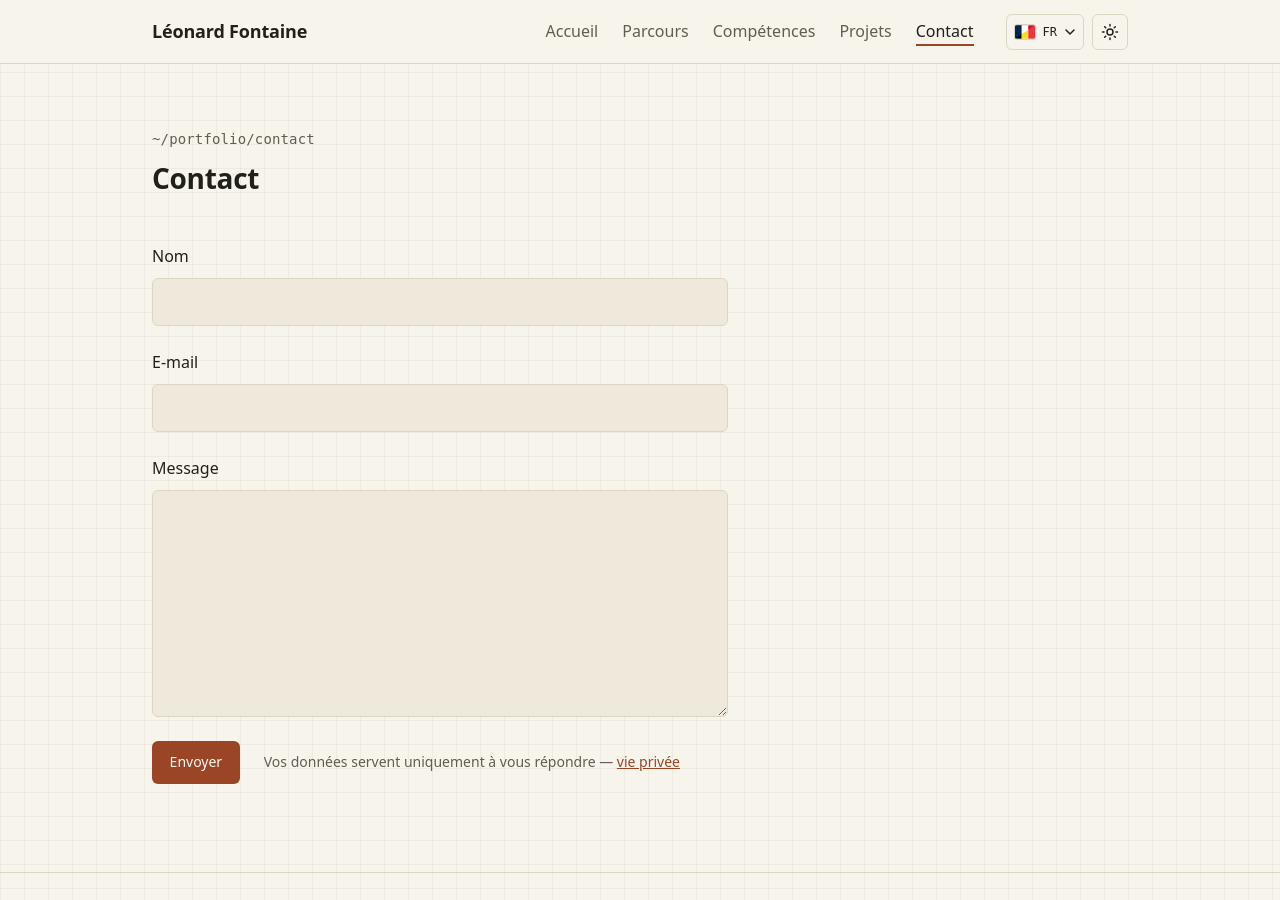
Test: contact form › shows server errors next to their field
The image size is (1280, 900).
Step 1. Type "Ada" into the field labelled "Nom" → coordinates (440, 302), box top-left (152, 278), bottom-right (728, 326)
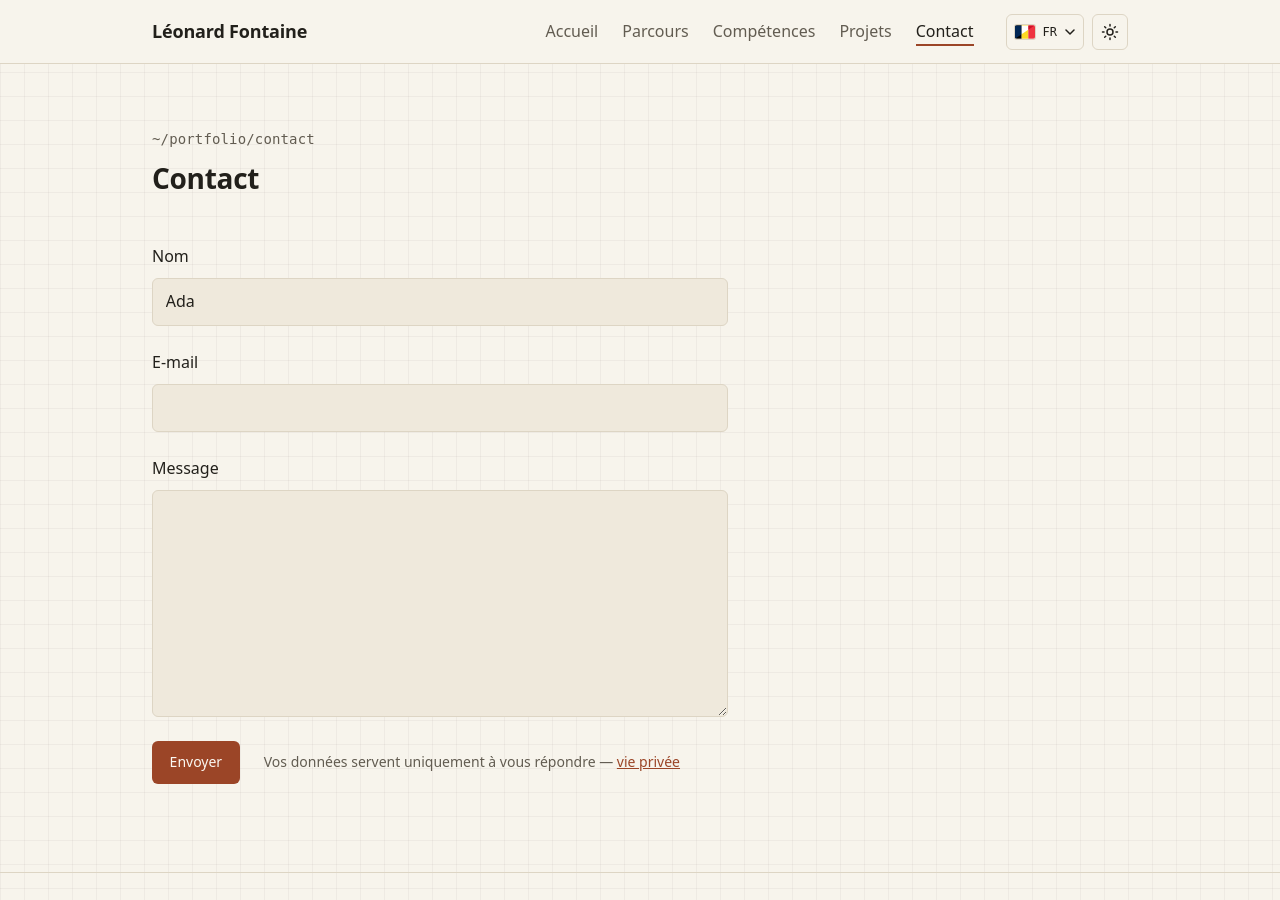
Step 2. Type "ada@example.com" into the field labelled "E-mail" → coordinates (440, 408), box top-left (152, 384), bottom-right (728, 432)
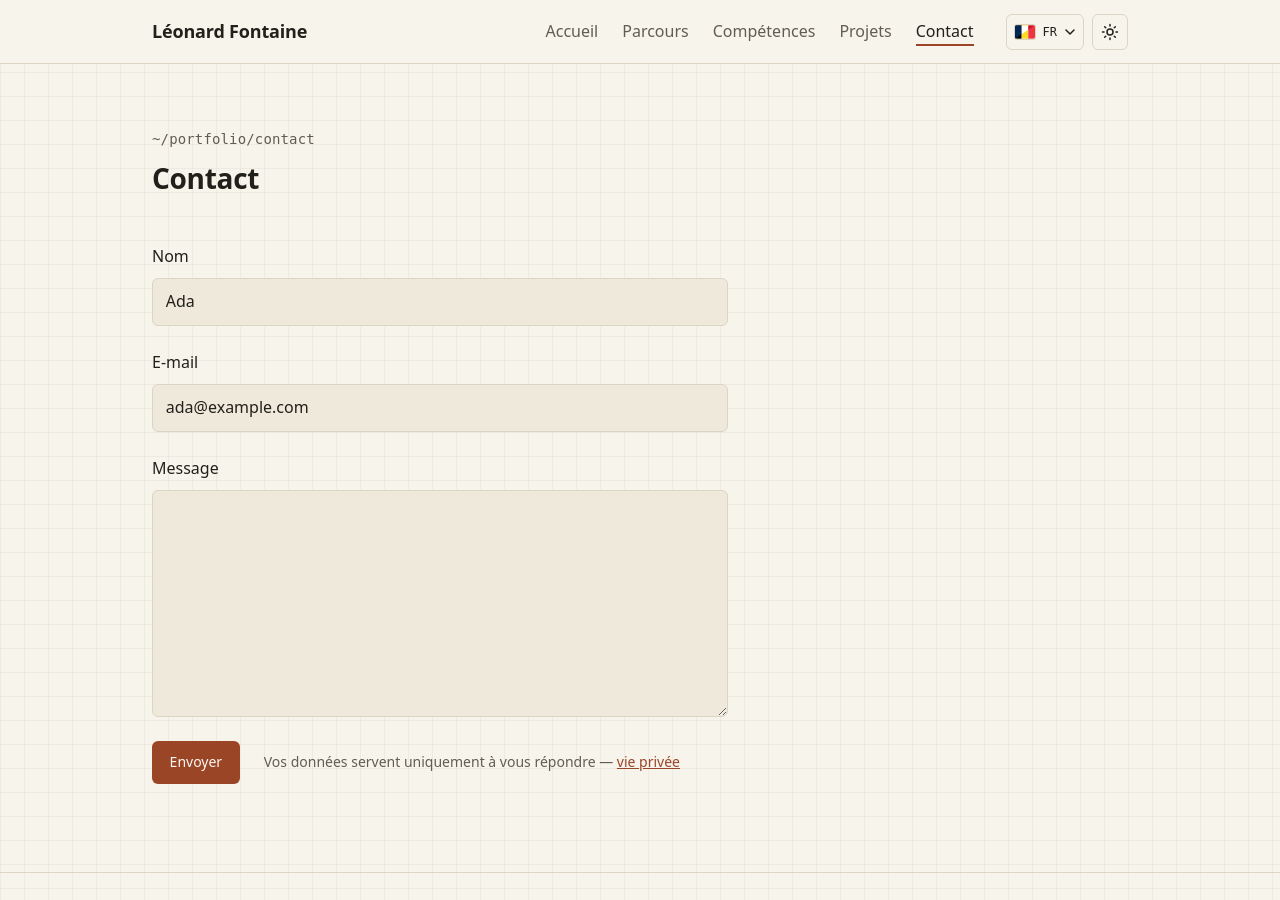
Step 3. Type "Bonjour, une question." into the text box labelled "Message" → coordinates (440, 603), box top-left (152, 490), bottom-right (728, 717)
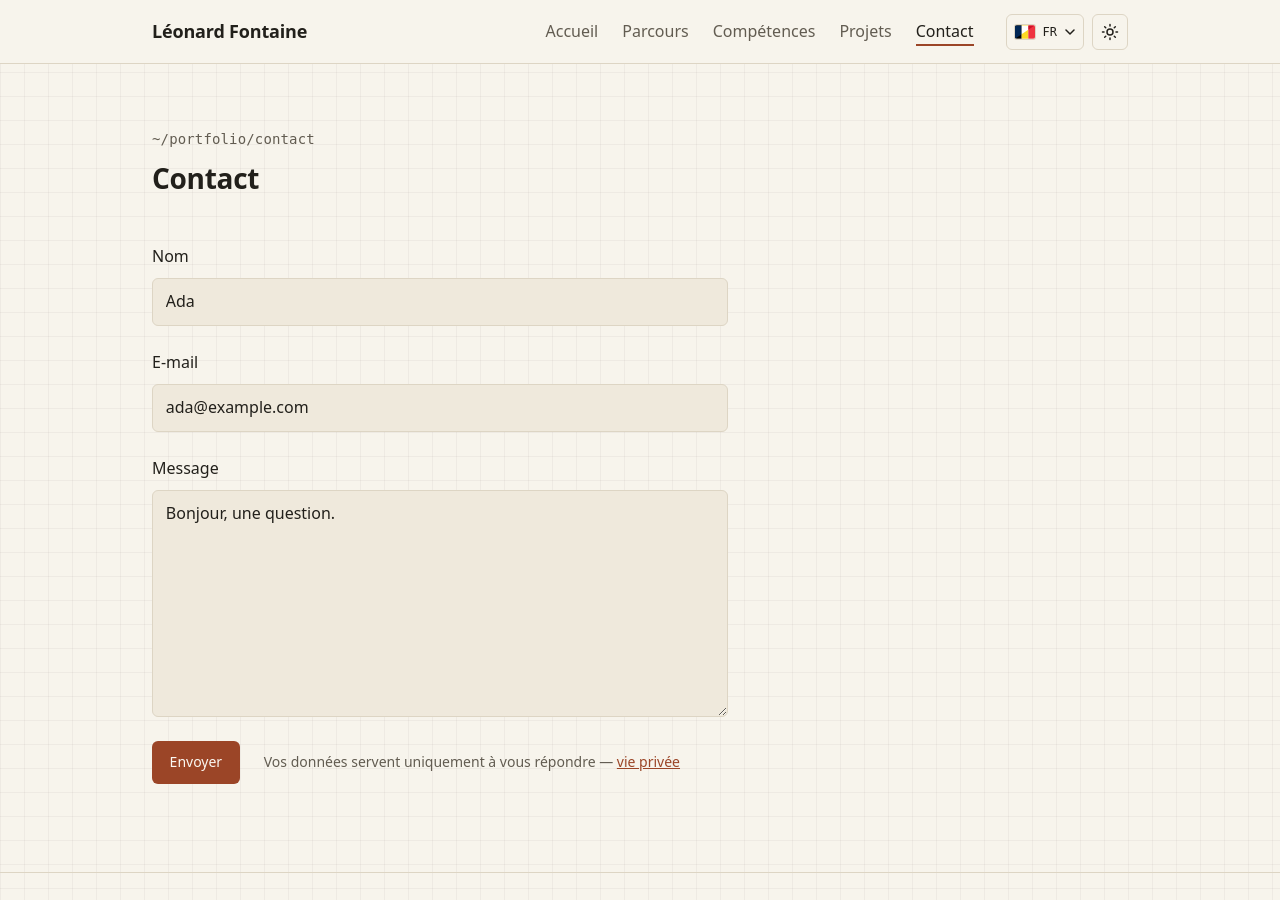
Step 4. Click the button "Envoyer" → coordinates (196, 763), box top-left (152, 741), bottom-right (240, 784)
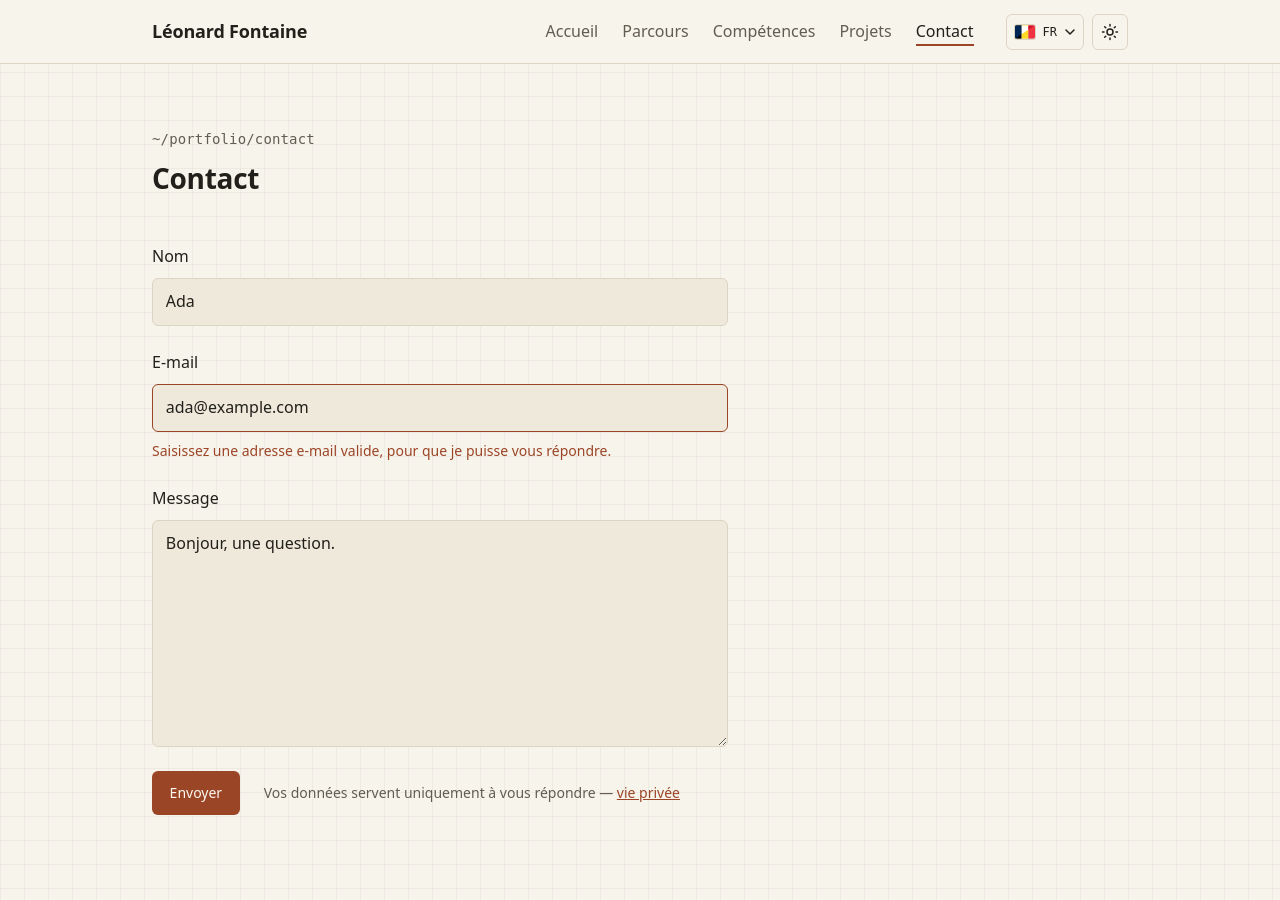
Expected: the text "adresse e-mail valide" is shown, top-left (152, 441), bottom-right (611, 460)
